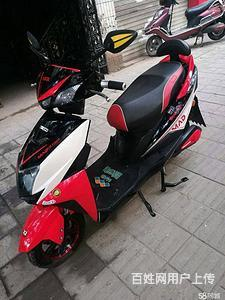non-vehicle: (13, 13, 212, 288), (144, 0, 224, 55)
